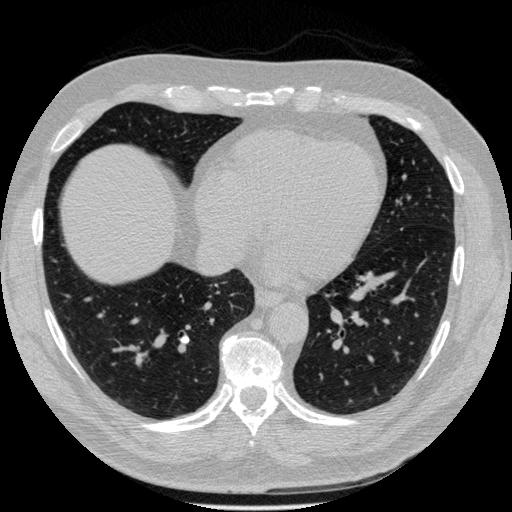nodule: (179, 333, 192, 346)
